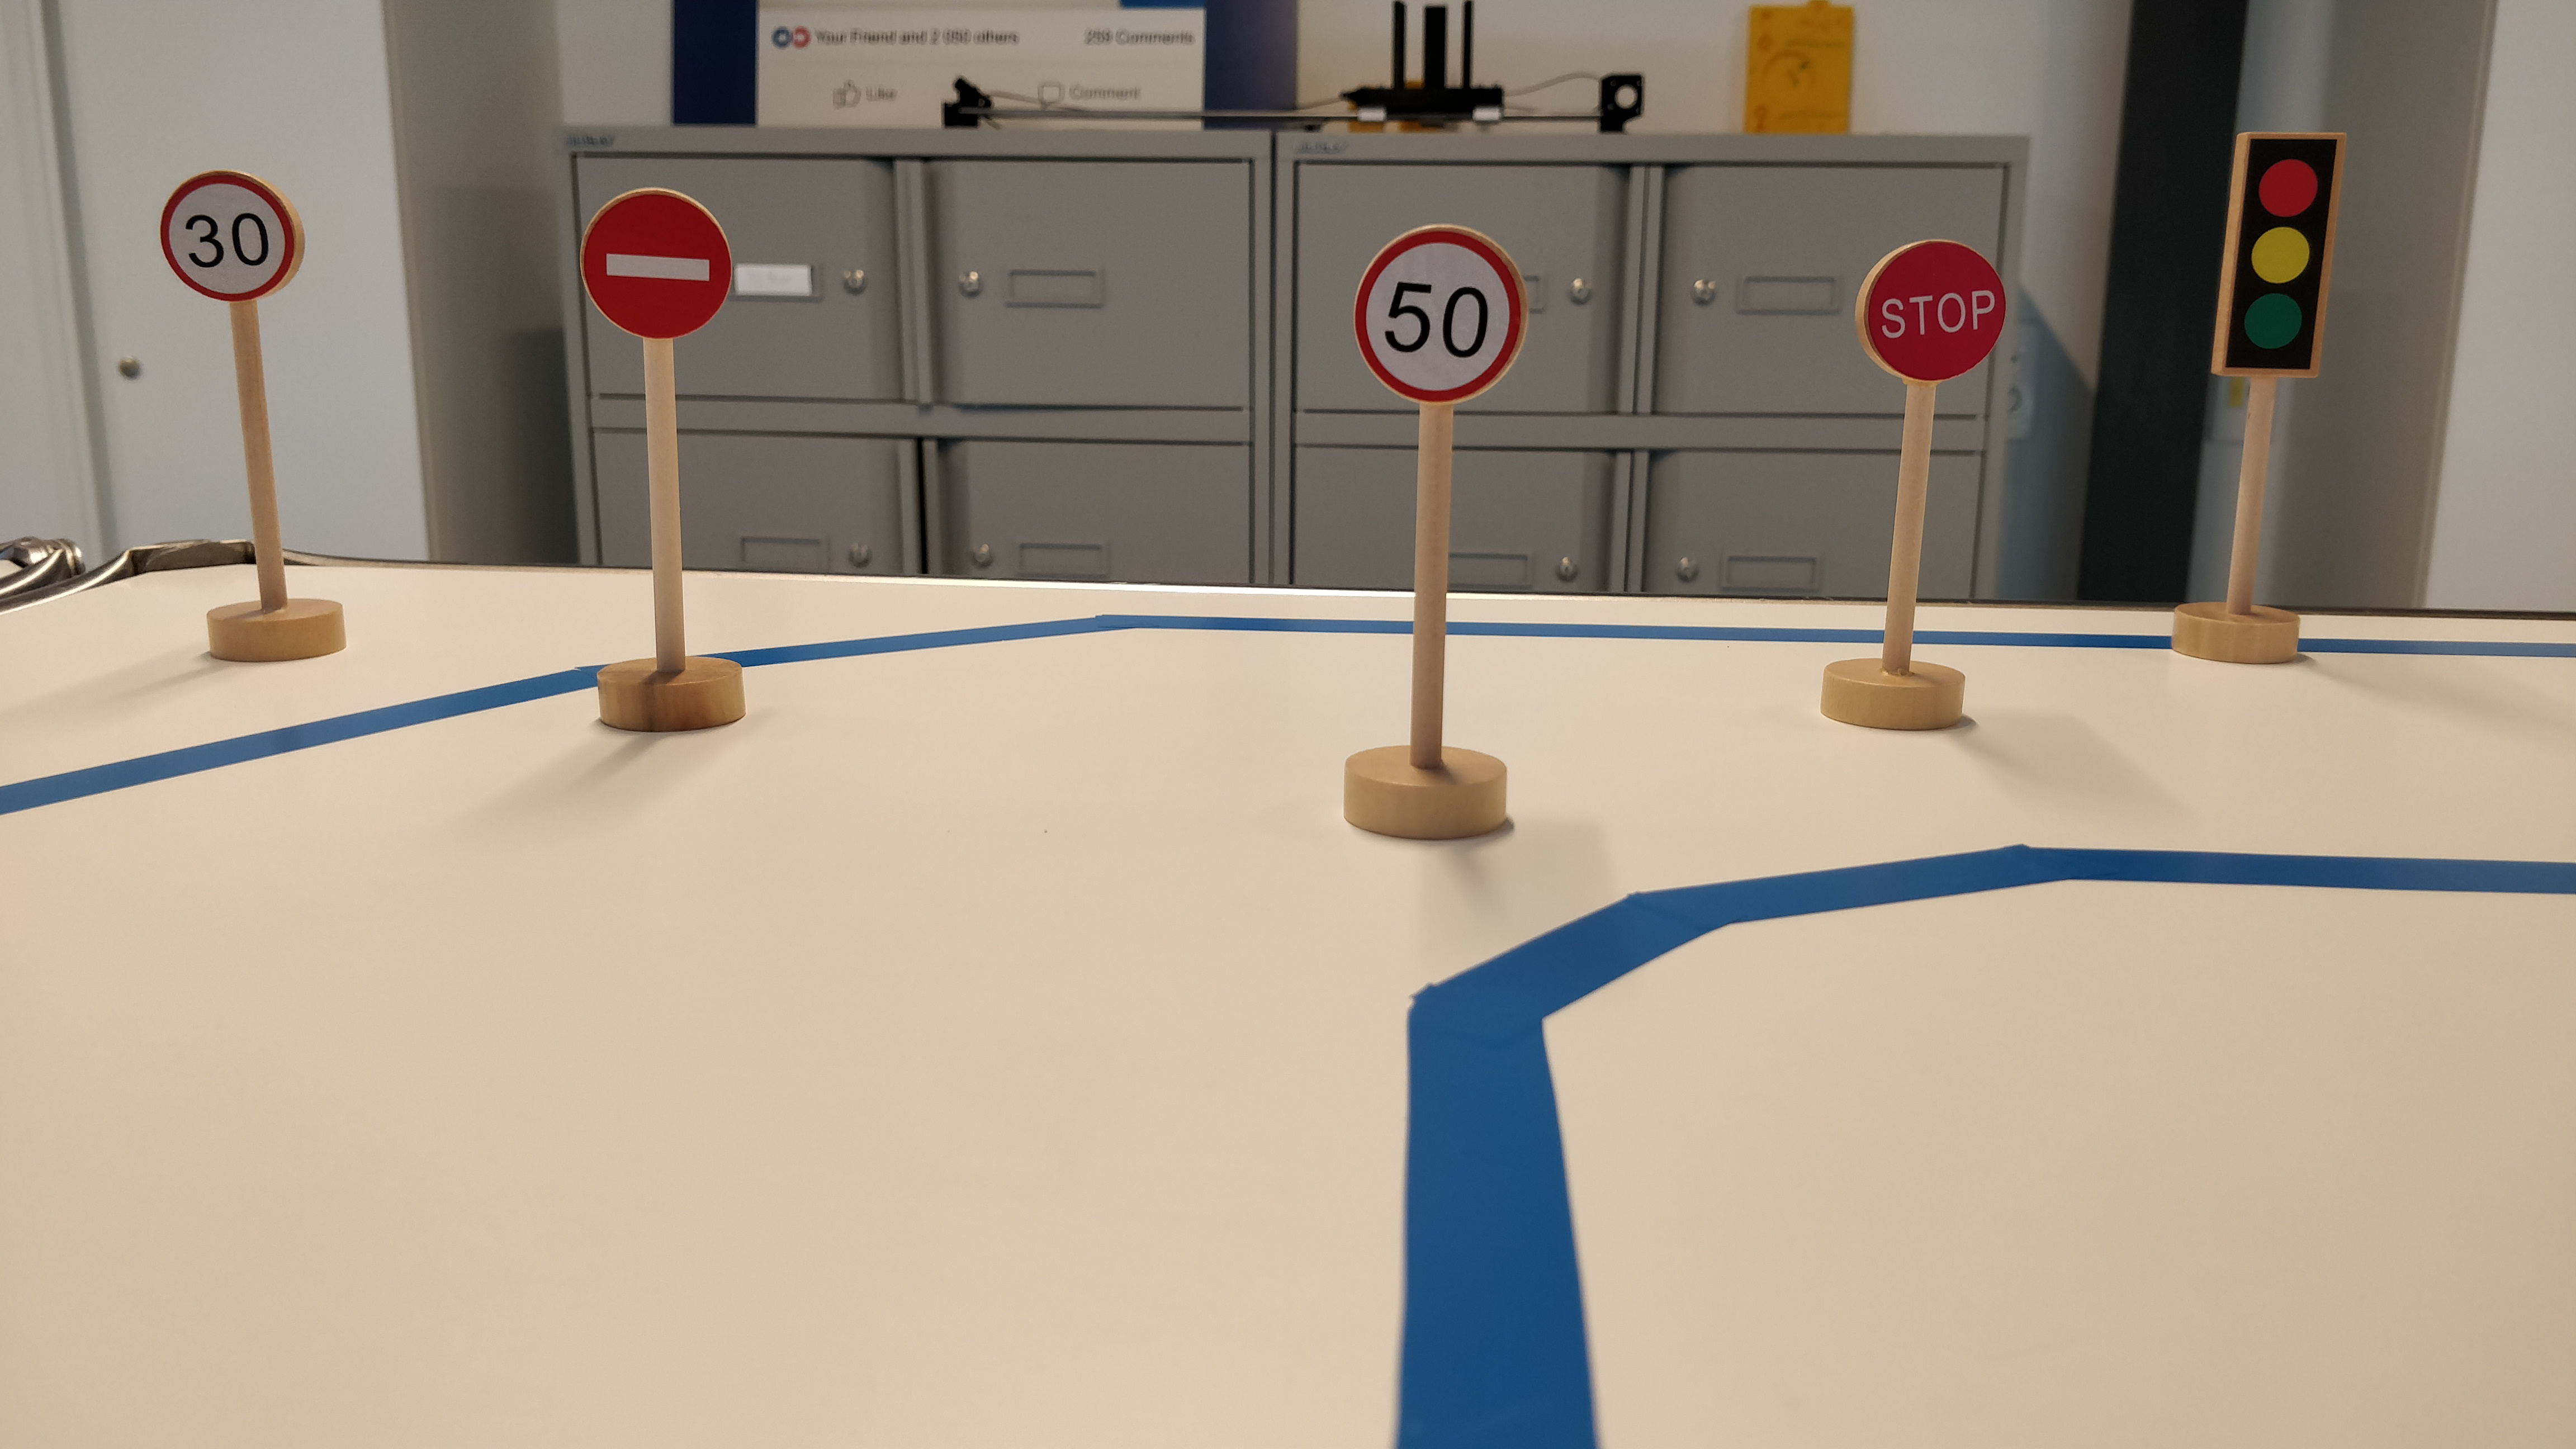Prohibition Sign: (573, 181, 738, 347)
Speed Limit 30: (151, 163, 310, 310)
Speed Limit 50: (1347, 222, 1534, 410)
Stop Sign: (1854, 235, 2010, 383)
Traffic Light: (2211, 129, 2350, 385)
